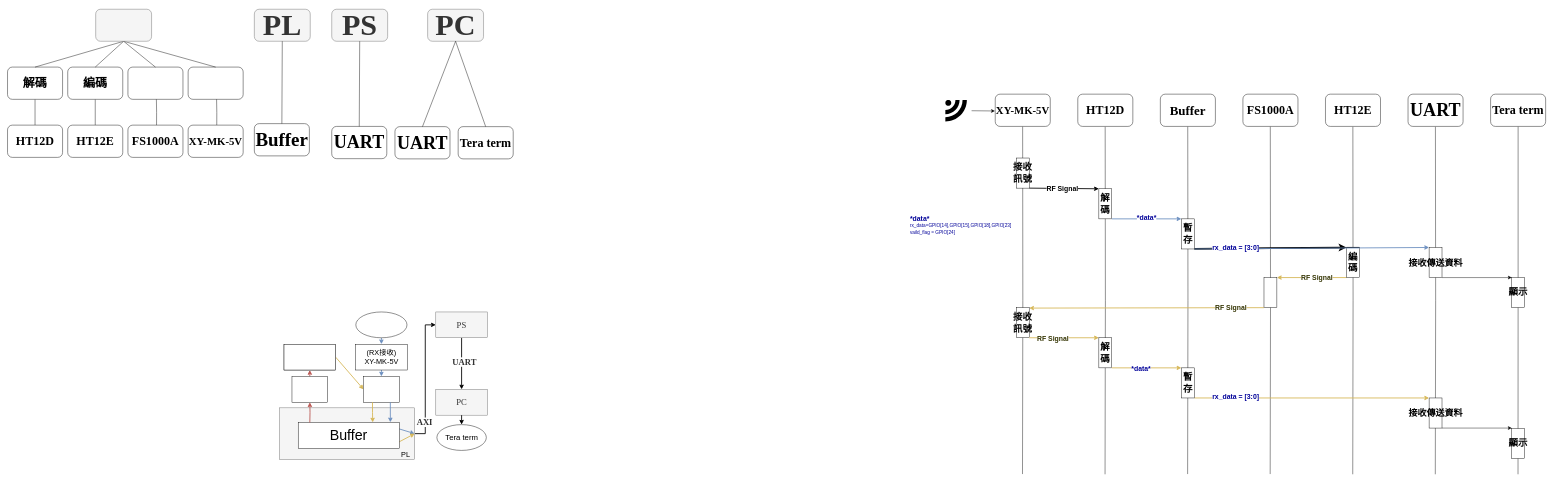
Some shapes in this 1553 by 482 pixel diagram are drawn without their labels. Here are the shapes that lost their labels. From the top down, the centre of each, then its label:
At [123,25]: "RF Module".
At [155,83]: "433MHz傳送".
At [215,83]: "433MHz接收".
At [956,110]: "433.92MHz Signal".
At [1270,292]: "傳送訊號".
At [381,325]: "433MHz遙控器".
At [310,357]: "(TX發送) FS1000A".
At [310,389]: "HT12E(編碼)".
At [381,389]: "HT12D(解碼)".
